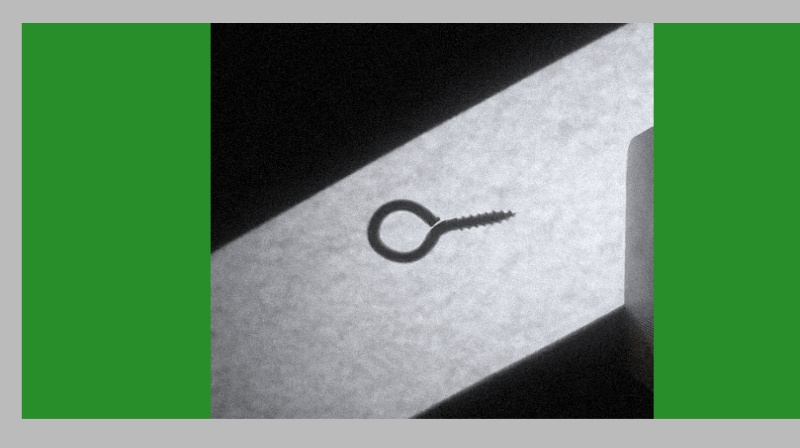O001: (365, 193, 518, 266)
